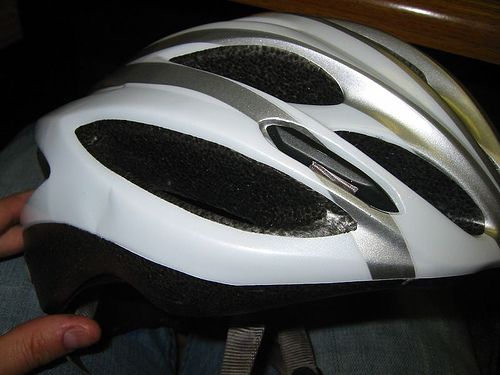helmet: (41, 30, 479, 293)
